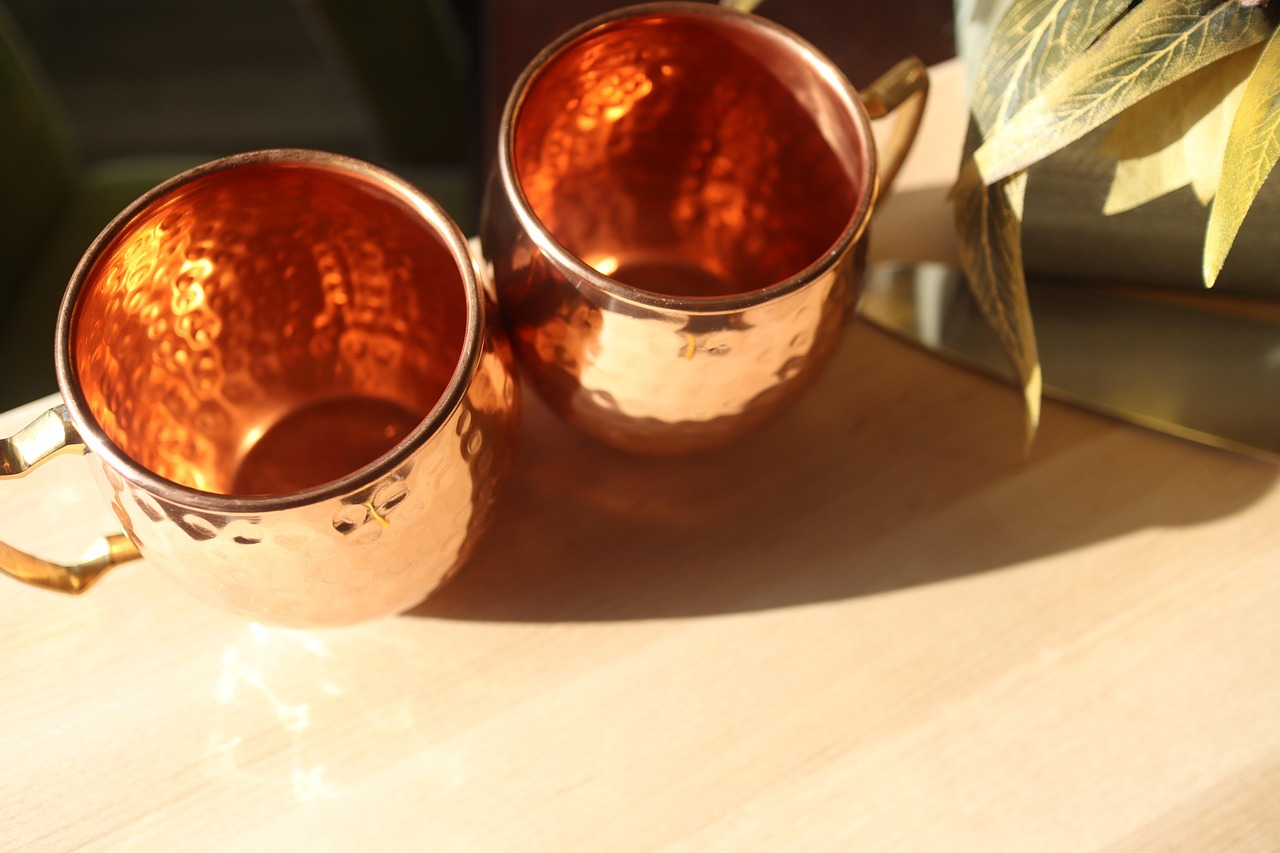mug: (446, 6, 1006, 484), (1, 113, 475, 645)
